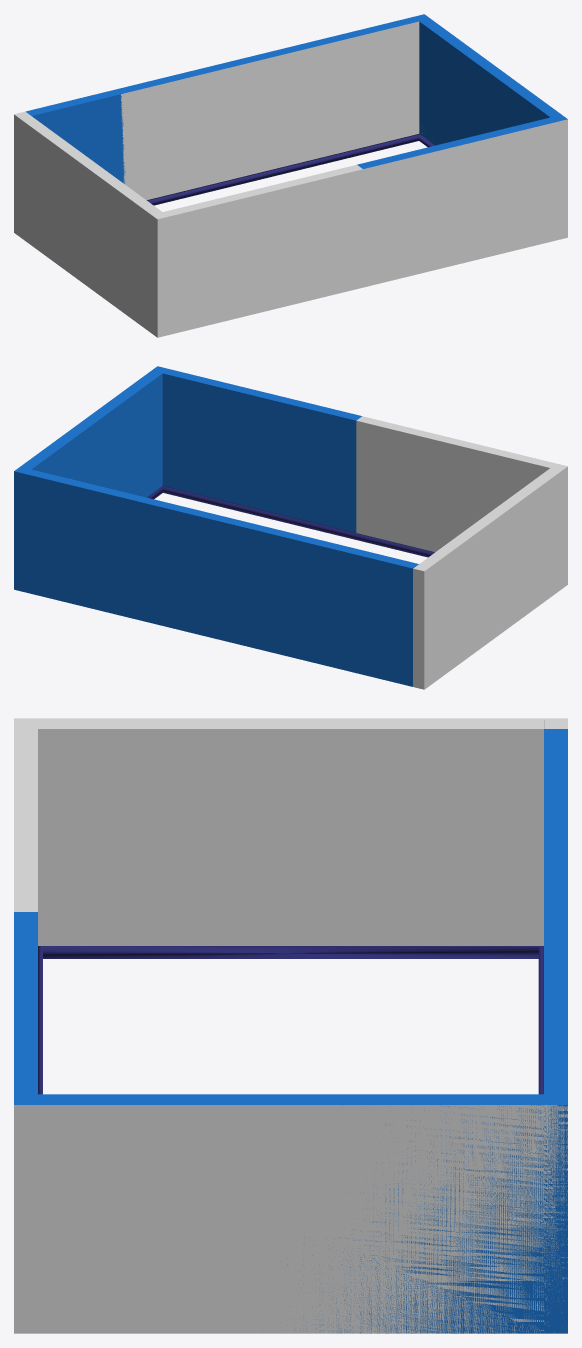
Rendered from EstacionEspacialExtension.fbx.
3 views of the same model, one above another, from view 1: azimuth 30°, elevation 25°; view 2: azimuth 150°, elevation 25°; view 3: azimuth 270°, elevation 25° (orthographic). The views are drawn at different scales.
Visible parts, largest first — view 1: Wall1_COL, Wall2_COL, Wall3_COL, WallExtend, WallExtendThing, Wall4_COL; view 2: WallExtend, Wall3_COL, Wall1_COL, Wall2_COL, WallExtendThing; view 3: Wall4_COL, Wall3_COL, WallExtend, WallExtendThing, Wall1_COL, Wall2_COL.
Boxes of the visible parts, x1,y1,x2,y2 form: Wall1_COL: (163, 122, 556, 334); Wall2_COL: (14, 21, 419, 236); Wall3_COL: (20, 116, 168, 337); WallExtend: (25, 14, 567, 183); WallExtendThing: (147, 134, 434, 205); Wall4_COL: (419, 119, 567, 240); WallExtend: (14, 366, 418, 686); Wall3_COL: (420, 463, 567, 684); Wall1_COL: (356, 416, 556, 552); Wall2_COL: (413, 564, 430, 689); WallExtendThing: (147, 486, 434, 557); Wall4_COL: (14, 1105, 543, 1333); Wall3_COL: (14, 718, 544, 945); WallExtend: (14, 729, 567, 1333); WallExtendThing: (38, 946, 543, 1094); Wall1_COL: (14, 729, 37, 911); Wall2_COL: (544, 718, 567, 1332).
Size of the model in its own units: 14.51 by 4 by 8.79.
